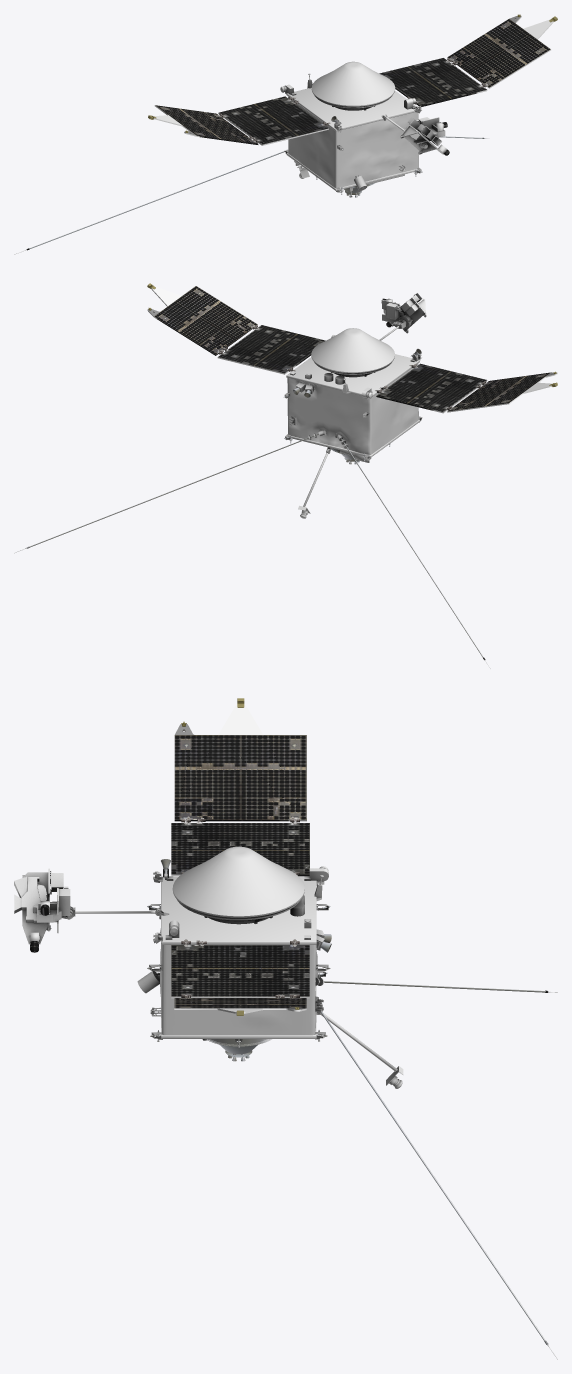
Rendered from maven.glb.
The picture shows the model from 3 angles, top to bottom: view 1: azimuth 30°, elevation 25°; view 2: azimuth 150°, elevation 25°; view 3: azimuth 270°, elevation 25°; orthographic projection. The views are drawn at different scales.
Parts seen in each view (by area): view 1: shiny_panel, BUS, foil_silver, tex_01, parts, dish_frame; view 2: shiny_panel, BUS, tex_01, foil_silver, parts; view 3: shiny_panel, BUS, foil_silver, parts, tex_01.
Part boxes in pixels (left/top/right/bottom): shiny_panel: left=155, top=19, right=550, bottom=144; BUS: left=286, top=88, right=446, bottom=190; foil_silver: left=311, top=61, right=395, bottom=105; tex_01: left=14, top=15, right=553, bottom=254; parts: left=148, top=14, right=557, bottom=197; dish_frame: left=311, top=89, right=395, bottom=110; shiny_panel: left=154, top=286, right=550, bottom=411; BUS: left=286, top=298, right=419, bottom=506; tex_01: left=14, top=286, right=557, bottom=668; foil_silver: left=311, top=328, right=394, bottom=372; parts: left=147, top=283, right=557, bottom=518; shiny_panel: left=171, top=735, right=309, bottom=1008; BUS: left=30, top=876, right=397, bottom=1071; foil_silver: left=172, top=846, right=304, bottom=916; parts: left=14, top=698, right=403, bottom=1088; tex_01: left=30, top=705, right=557, bottom=1359.
Bounding box in the file's own units: 13.13 × 5.42 × 8.22.
Materials: 11 (9 with a texture image).
